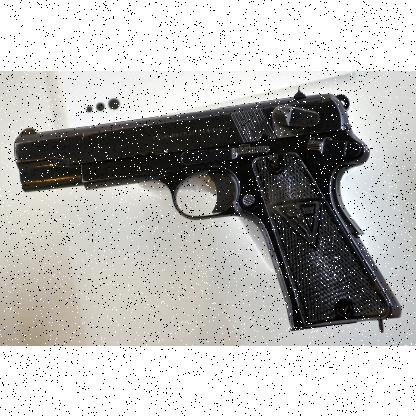gun: (13, 85, 400, 333)
